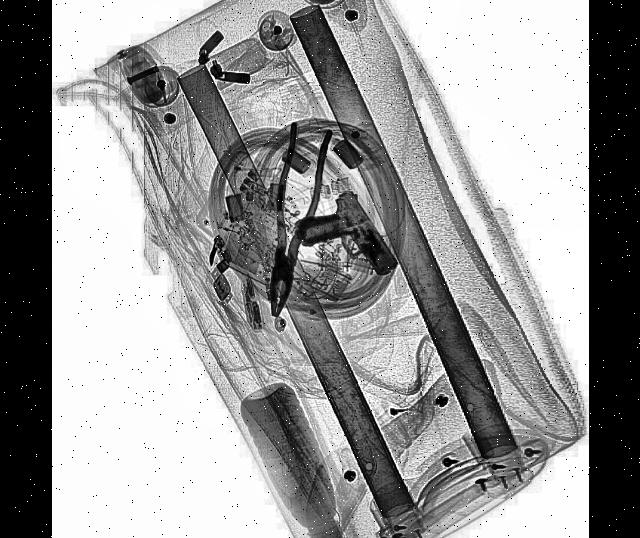Gun: (290, 173, 400, 319)
Pliers: (254, 115, 334, 323)
